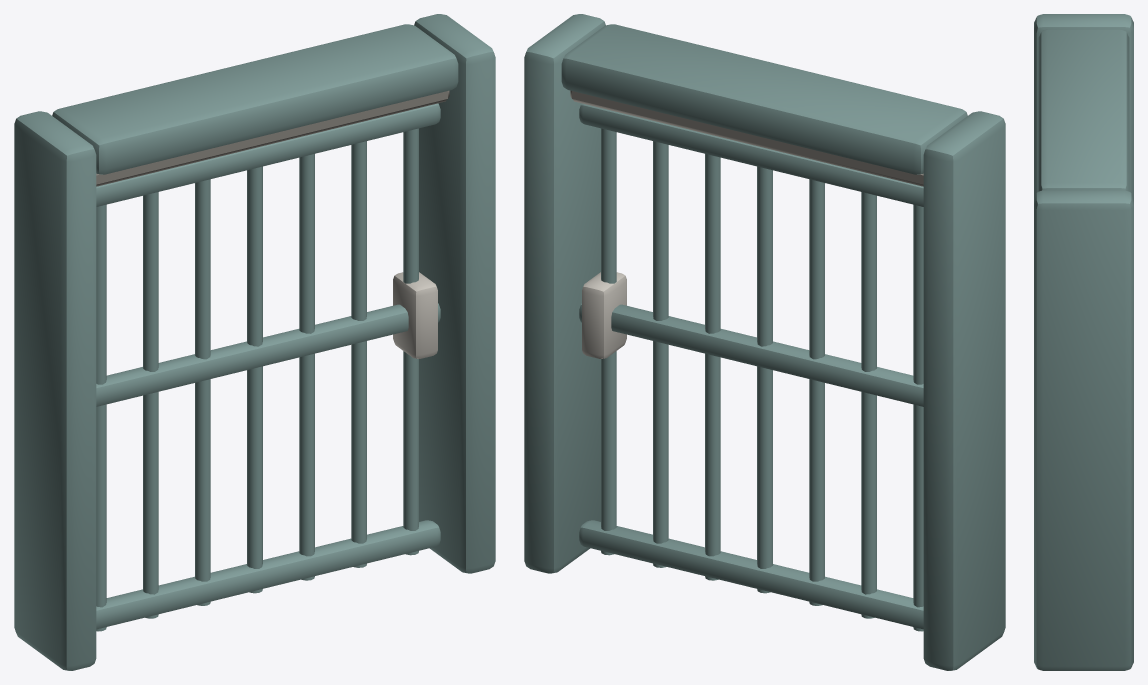
The model's file is security_gate.glb.
The picture shows the model from 3 angles, left to right: view 1: azimuth 30°, elevation 25°; view 2: azimuth 150°, elevation 25°; view 3: azimuth 270°, elevation 25°; orthographic projection. The views are drawn at different scales.
Parts seen in each view (by area): view 1: paint, steel_dark, steel; view 2: paint, steel_dark, steel; view 3: paint.
Part boxes in pixels (left/top/right/bottom): paint: left=14, top=14, right=495, bottom=670; steel_dark: left=96, top=90, right=449, bottom=186; steel: left=393, top=272, right=437, bottom=358; paint: left=524, top=14, right=1005, bottom=670; steel_dark: left=570, top=90, right=923, bottom=186; steel: left=582, top=272, right=626, bottom=358; paint: left=1034, top=14, right=1133, bottom=670.
Bounding box in the file's own units: 1 × 1.15 × 0.22.
